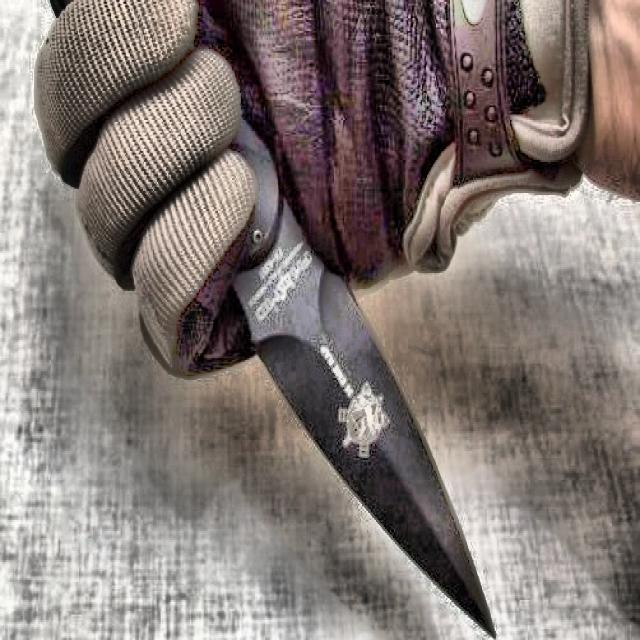knife: (232, 125, 496, 638)
